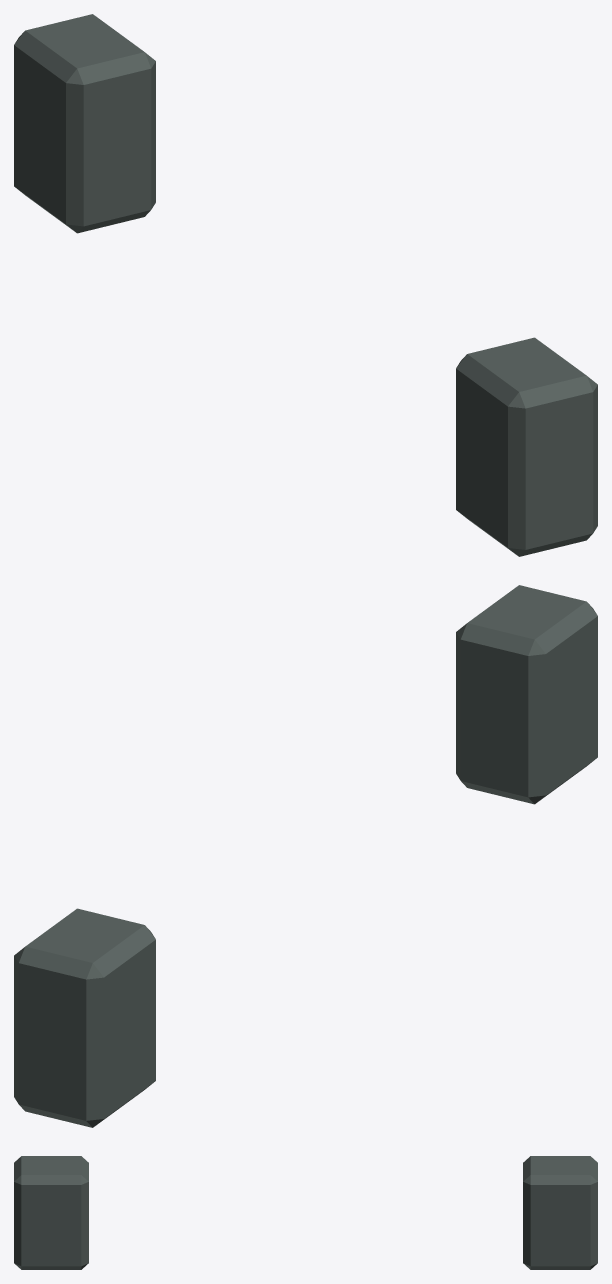
Rendered from BombRackTriple__Hook_1.obj.
3 renders of one model, top to bottom at view 1: azimuth 30°, elevation 25°; view 2: azimuth 150°, elevation 25°; view 3: azimuth 270°, elevation 25°, orthographic. The views are drawn at different scales.
Visible parts, largest first — view 1: Suspension_hook, Suspension_hook.001; view 2: Suspension_hook, Suspension_hook.001; view 3: Suspension_hook, Suspension_hook.001.
Part boxes in pixels (x1=…): Suspension_hook: x1=456, y1=337, x2=597, y2=556; Suspension_hook.001: x1=14, y1=14, x2=155, y2=233; Suspension_hook: x1=456, y1=585, x2=597, y2=804; Suspension_hook.001: x1=14, y1=908, x2=155, y2=1127; Suspension_hook: x1=14, y1=1156, x2=88, y2=1269; Suspension_hook.001: x1=523, y1=1156, x2=597, y2=1269.
Size of the model in its own units: 0.08 by 0.14 by 0.78.
